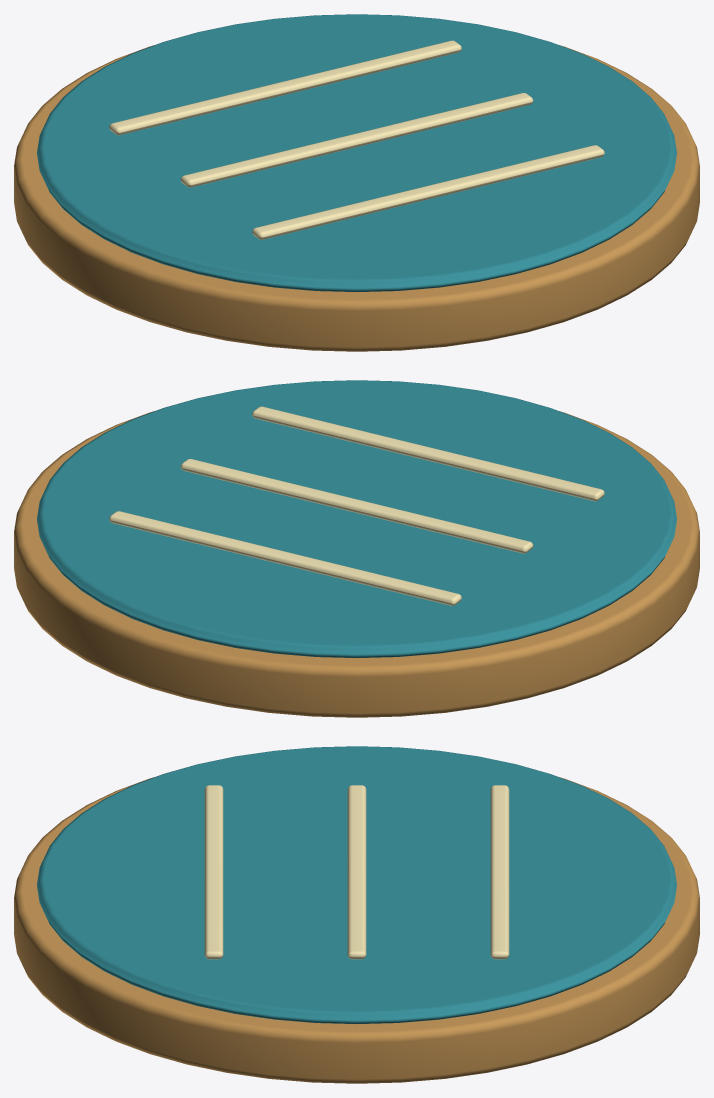
The model's file is fish-back.fbx.
The picture shows the model from 3 angles, top to bottom: view 1: azimuth 30°, elevation 25°; view 2: azimuth 150°, elevation 25°; view 3: azimuth 270°, elevation 25°; orthographic projection.
Parts seen in each view (by area): view 1: fish-back; view 2: fish-back; view 3: fish-back.
Part boxes in pixels (x1,y1,x2,y2): fish-back: (14, 14, 699, 351); fish-back: (14, 380, 699, 717); fish-back: (14, 746, 699, 1083).
Bounding box in the file's own units: 2.4 × 0.285 × 2.4.
